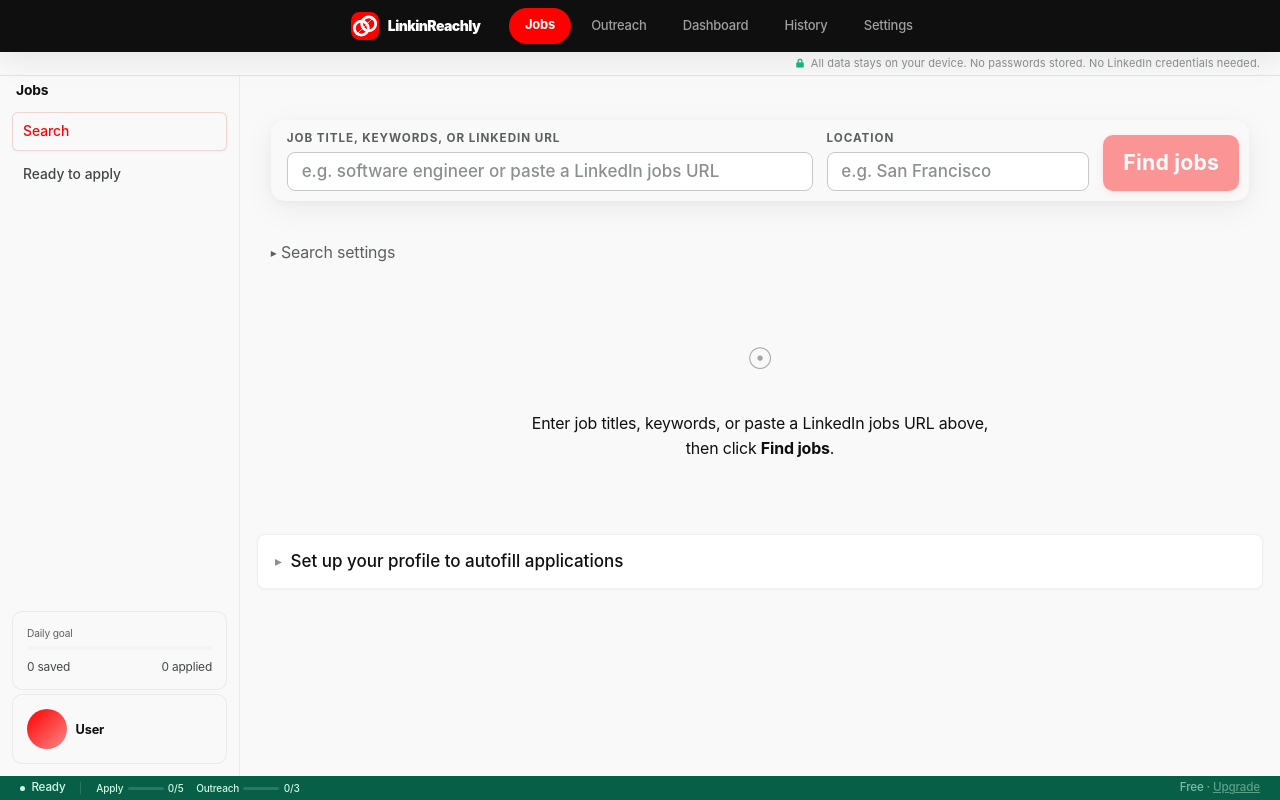
Test: Wizard flow › auto-advances from Connect to Goal when Chrome is ready
The image size is (1280, 800).
Click the tab "Outreach".
click(619, 25)  # box [575,8,663,42]
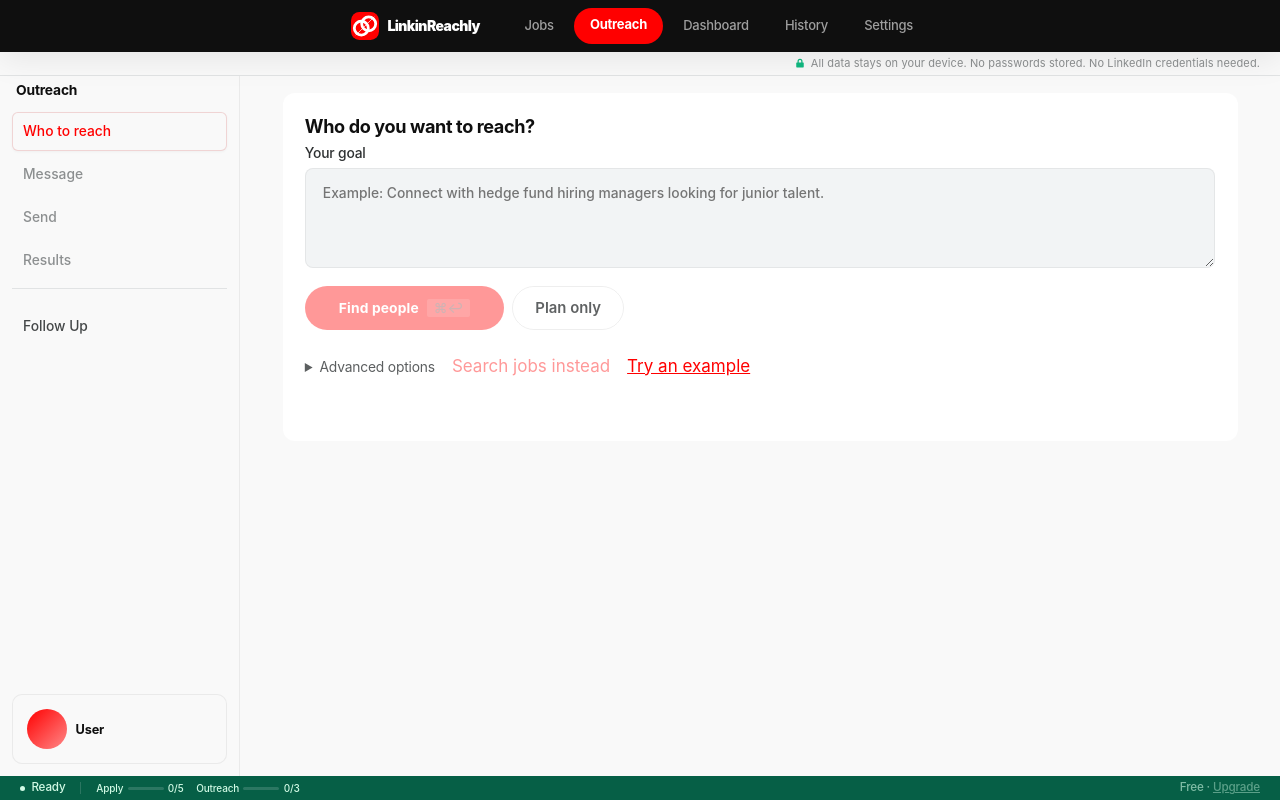
Now the heading "Who do you want to reach?" is shown, box [305,116,535,137]
